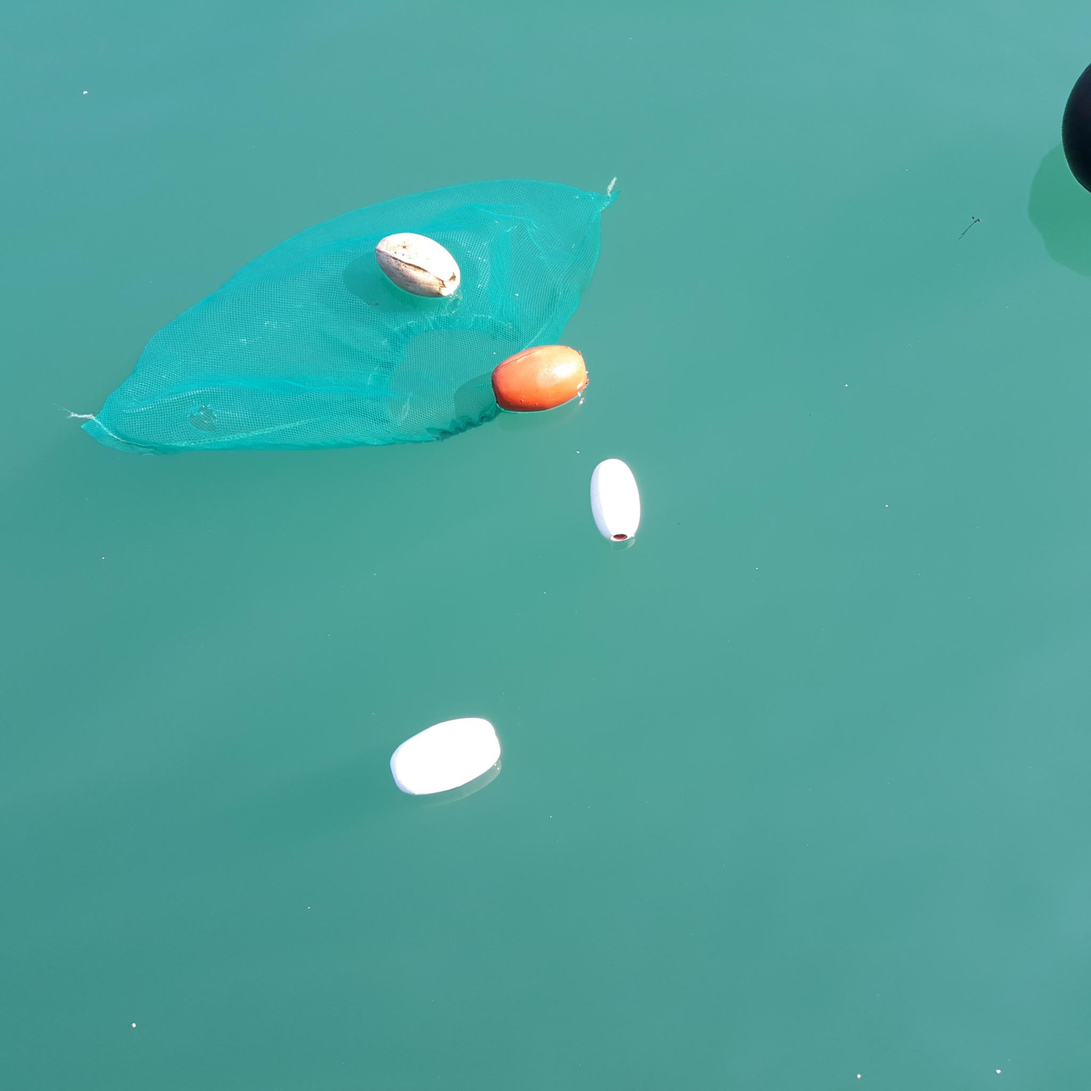sampah_terapung: (80, 179, 620, 457), (389, 718, 501, 796), (491, 345, 590, 413), (376, 233, 461, 299), (590, 459, 641, 542)
